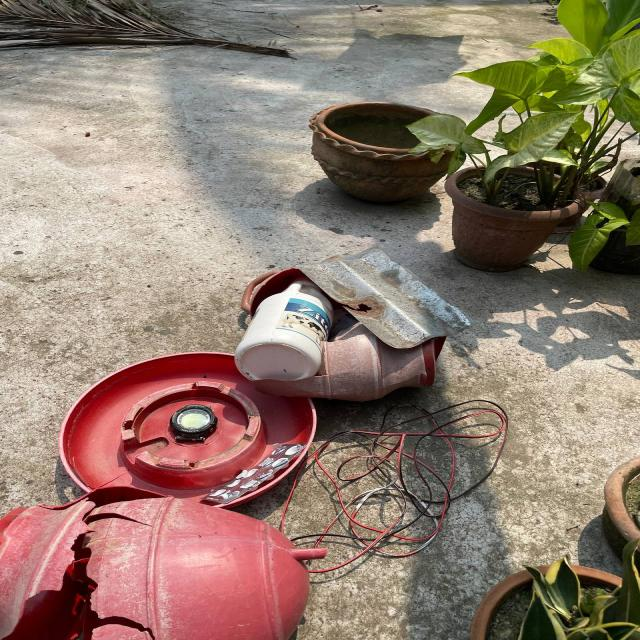Cable: (316, 391, 528, 594)
E-waste: (158, 395, 224, 443)
Medical Waste: (215, 438, 310, 500)
Metal: (308, 248, 500, 338)
Plastics: (0, 358, 162, 639), (120, 490, 302, 640), (226, 276, 338, 391)
